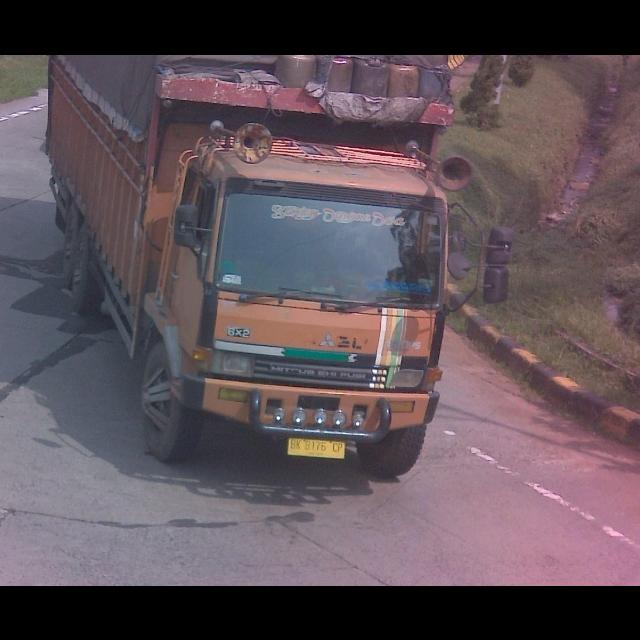plate: (284, 434, 346, 461)
